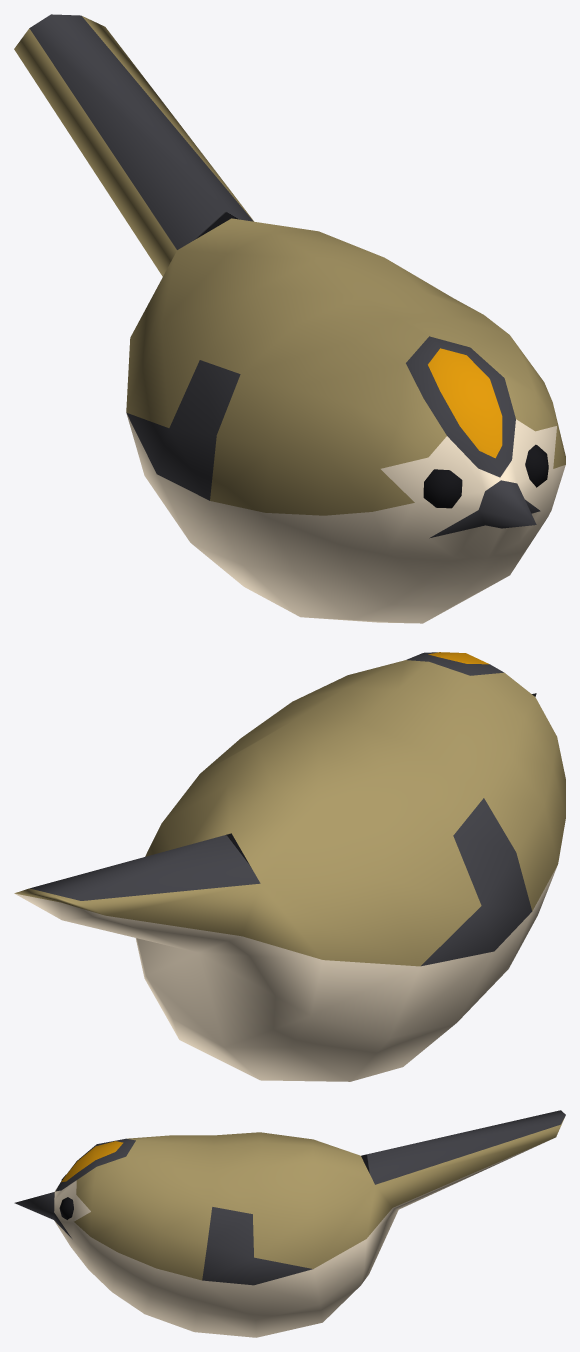
The model's file is Gold_Crest.glb.
The picture shows the model from 3 angles, top to bottom: view 1: azimuth 30°, elevation 25°; view 2: azimuth 150°, elevation 25°; view 3: azimuth 270°, elevation 25°; orthographic projection. The views are drawn at different scales.
Visible parts, largest first — view 1: Gold_Crest; view 2: Gold_Crest; view 3: Gold_Crest.
Boxes of the visible parts, bbox=[...] form: Gold_Crest: bbox=[14, 14, 565, 623]; Gold_Crest: bbox=[14, 652, 565, 1081]; Gold_Crest: bbox=[14, 1110, 565, 1337].
Bounding box in the file's own units: 0.1208 × 0.1286 × 0.301.
Materials: 1 (1 with a texture image).
